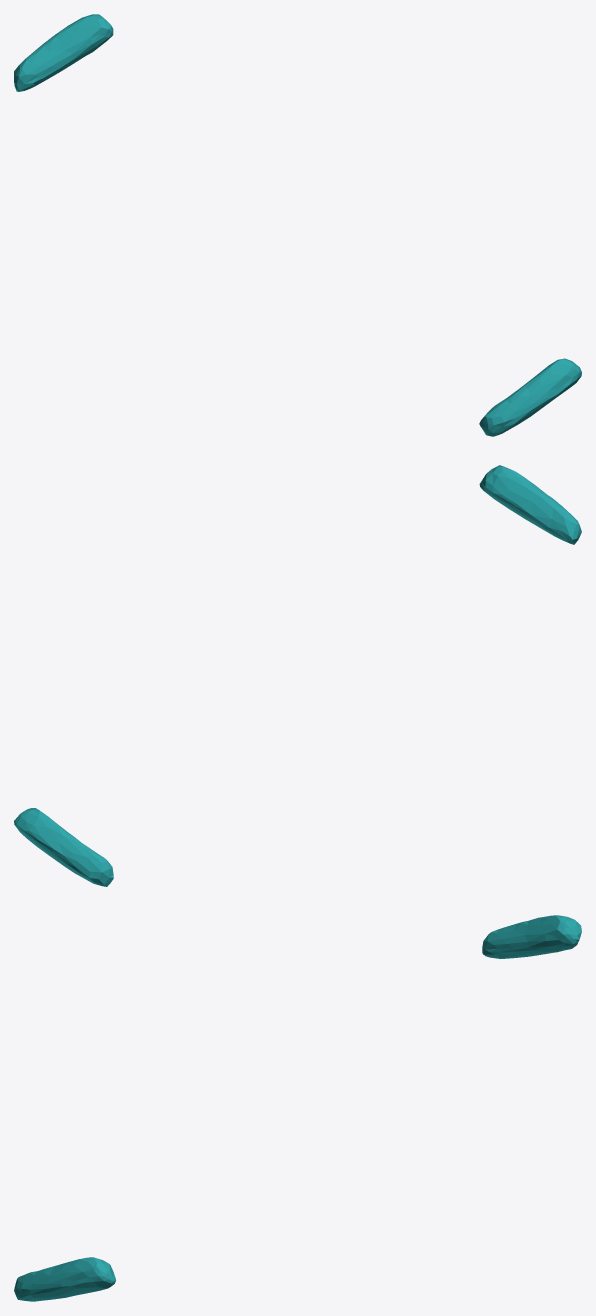
3 renders of one model, top to bottom at view 1: azimuth 30°, elevation 25°; view 2: azimuth 150°, elevation 25°; view 3: azimuth 330°, elevation 25°, orthographic.
Visible parts, largest first — view 1: 312782590.obj; view 2: 312782590.obj; view 3: 312782590.obj.
Boxes of the visible parts, x1,y1,x2,y2 form: 312782590.obj: (14,14,581,436); 312782590.obj: (14,465,581,886); 312782590.obj: (14,915,581,1301).
Bounding box in the file's own units: 918 × 537 × 7960.
